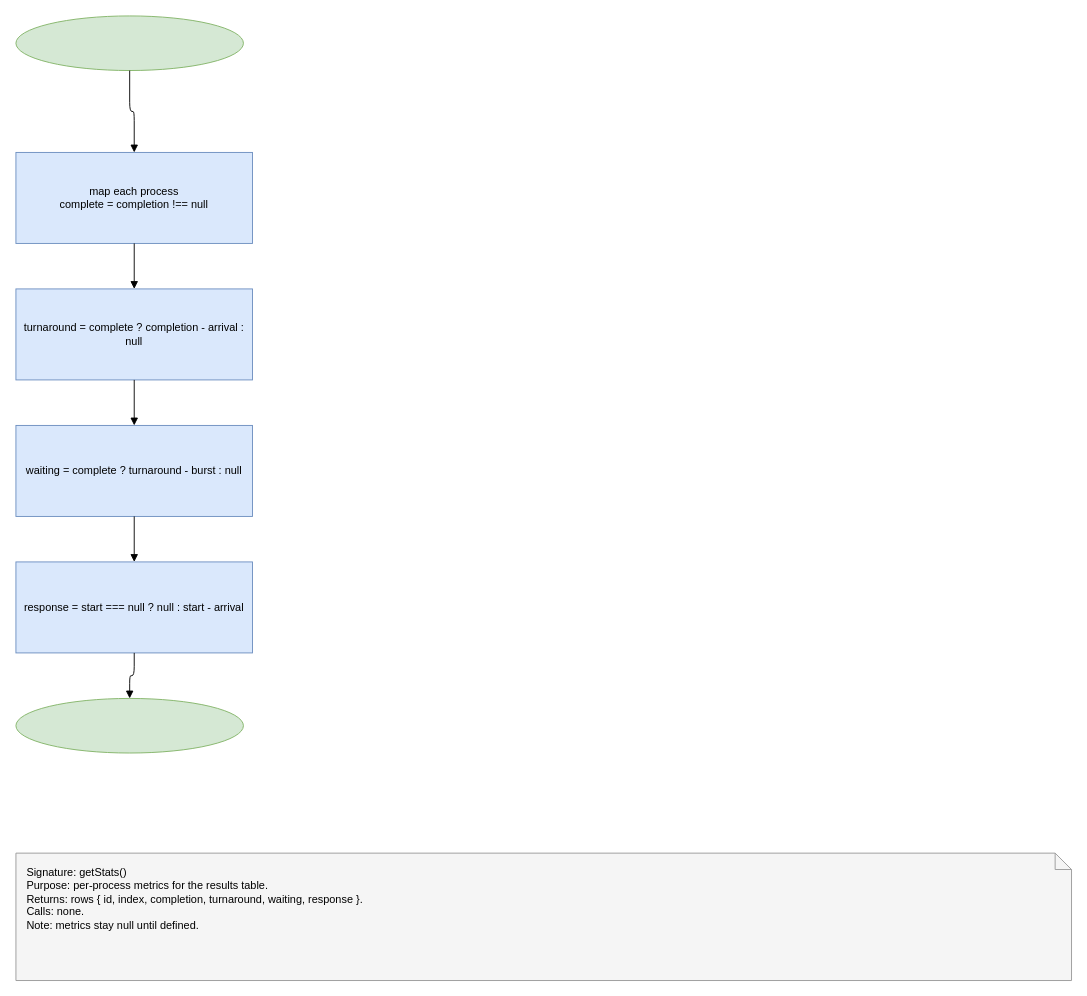
This 1087x996 diagram has some shape labels left out. Each missing label, with the centre of its shape:
getStats(): (x=129, y=43)
return rows: (x=129, y=725)
